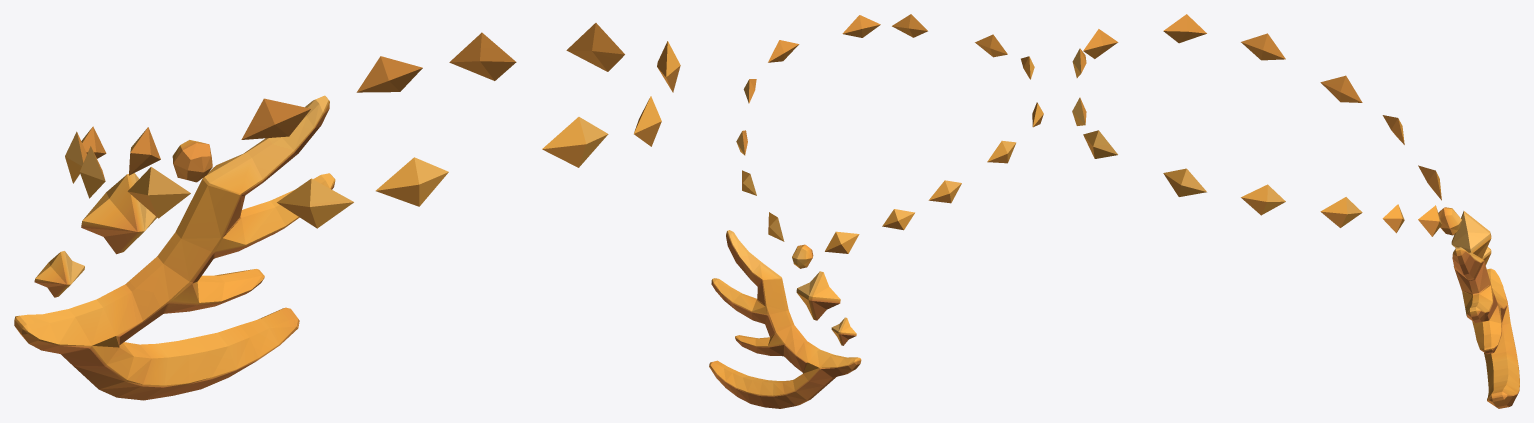
File: CharSkyKid_Neck_AP28Pendant.glb
3 views of the same model, side by side, from view 1: azimuth 30°, elevation 25°; view 2: azimuth 150°, elevation 25°; view 3: azimuth 270°, elevation 25° (orthographic). The views are drawn at different scales.
Visible parts, largest first — view 1: CharSkyKid_Neck_AP28Pendant; view 2: CharSkyKid_Neck_AP28Pendant; view 3: CharSkyKid_Neck_AP28Pendant.
Boxes of the visible parts, box(x1,y1,x2,y2) form: CharSkyKid_Neck_AP28Pendant: box(14, 23, 680, 400); CharSkyKid_Neck_AP28Pendant: box(709, 14, 1043, 408); CharSkyKid_Neck_AP28Pendant: box(1072, 14, 1519, 408).
Bounding box in the file's own units: 1.79 × 1.66 × 2.12.
1 material, 1 textured.
